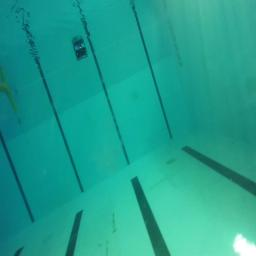Full: (75, 52, 89, 61)
